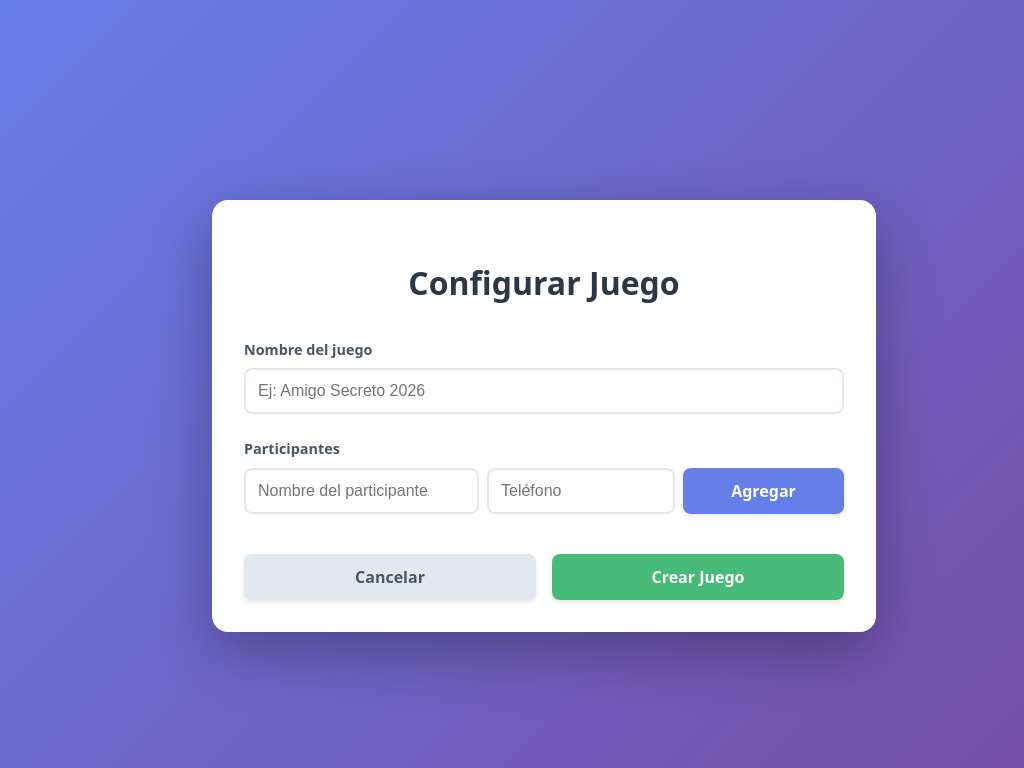
Test: GameSetup Component Tests › should show error when phone is empty
This screenshot has width=1024, height=768.
Type "Juan" into the field with placeholder "Nombre del participante".
click(362, 491); type("Juan")  # box left=244, top=468, right=479, bottom=514
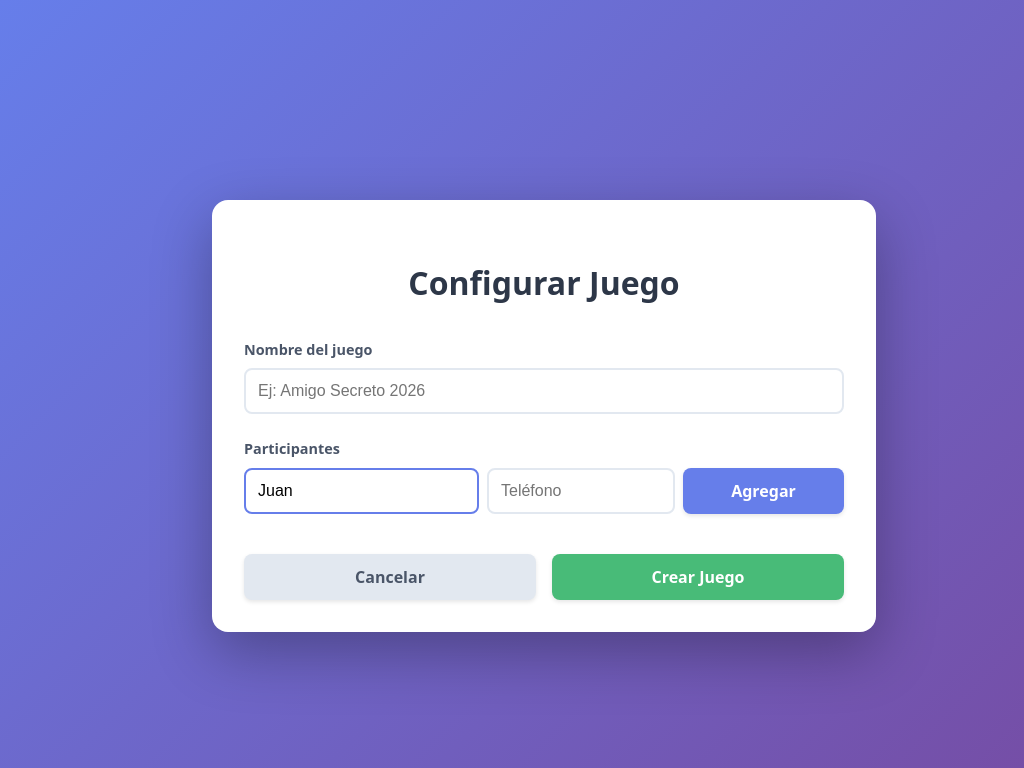
Click the button "Agregar".
click(764, 491)  # box left=683, top=468, right=844, bottom=514
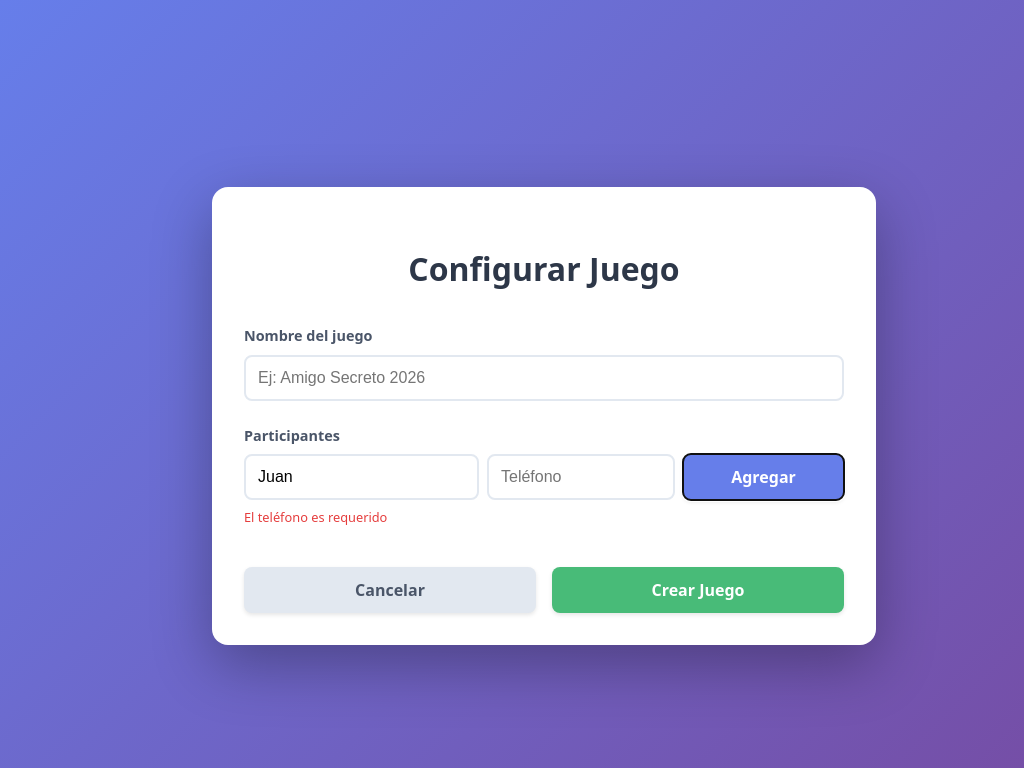
Now the text "El teléfono es requerido" is shown, box left=244, top=508, right=387, bottom=526
